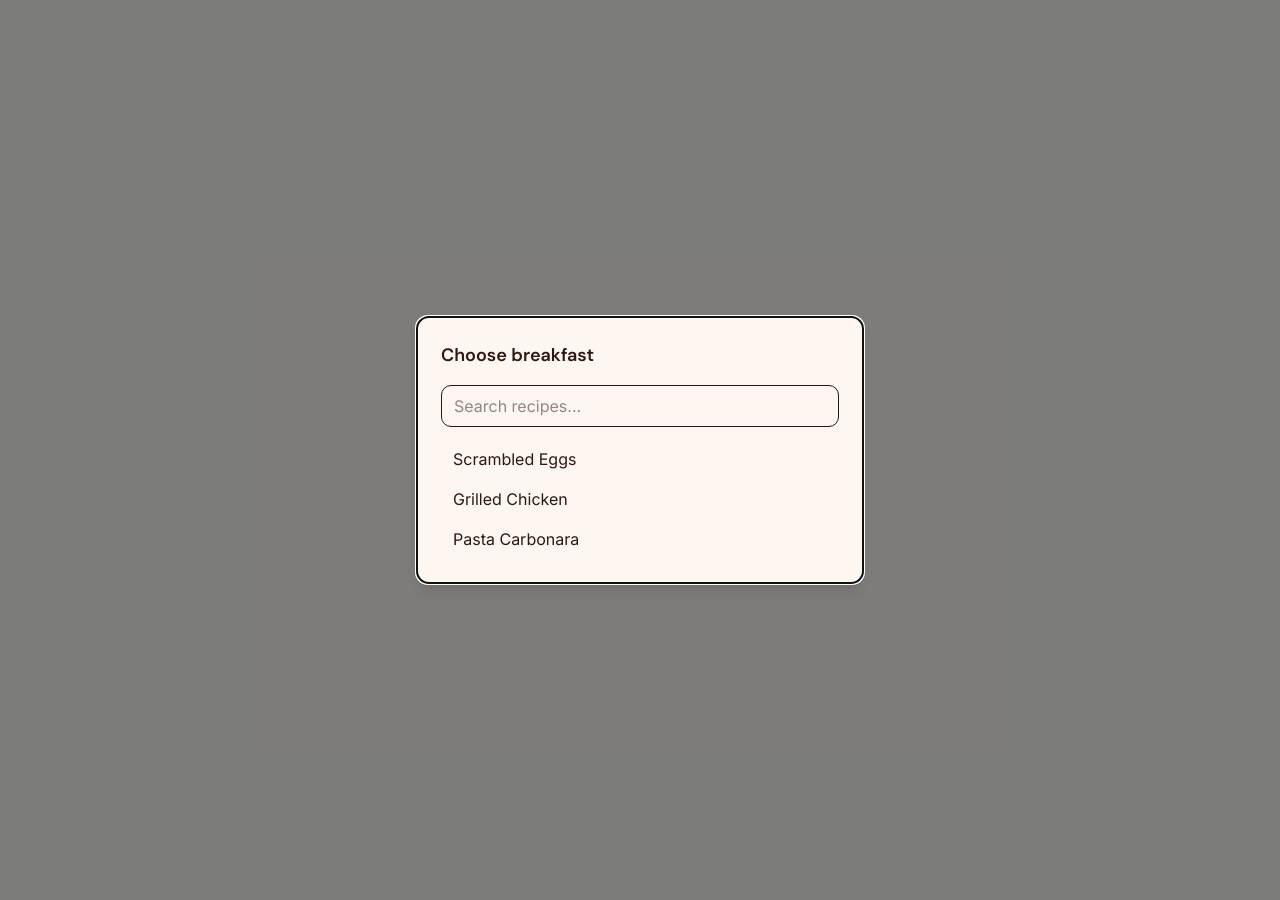
Test case: RecipePickerModal › Error Handling › should display error message on mutation failure
Click the option "Grilled Chicken": (510, 499) [453,489,568,509]
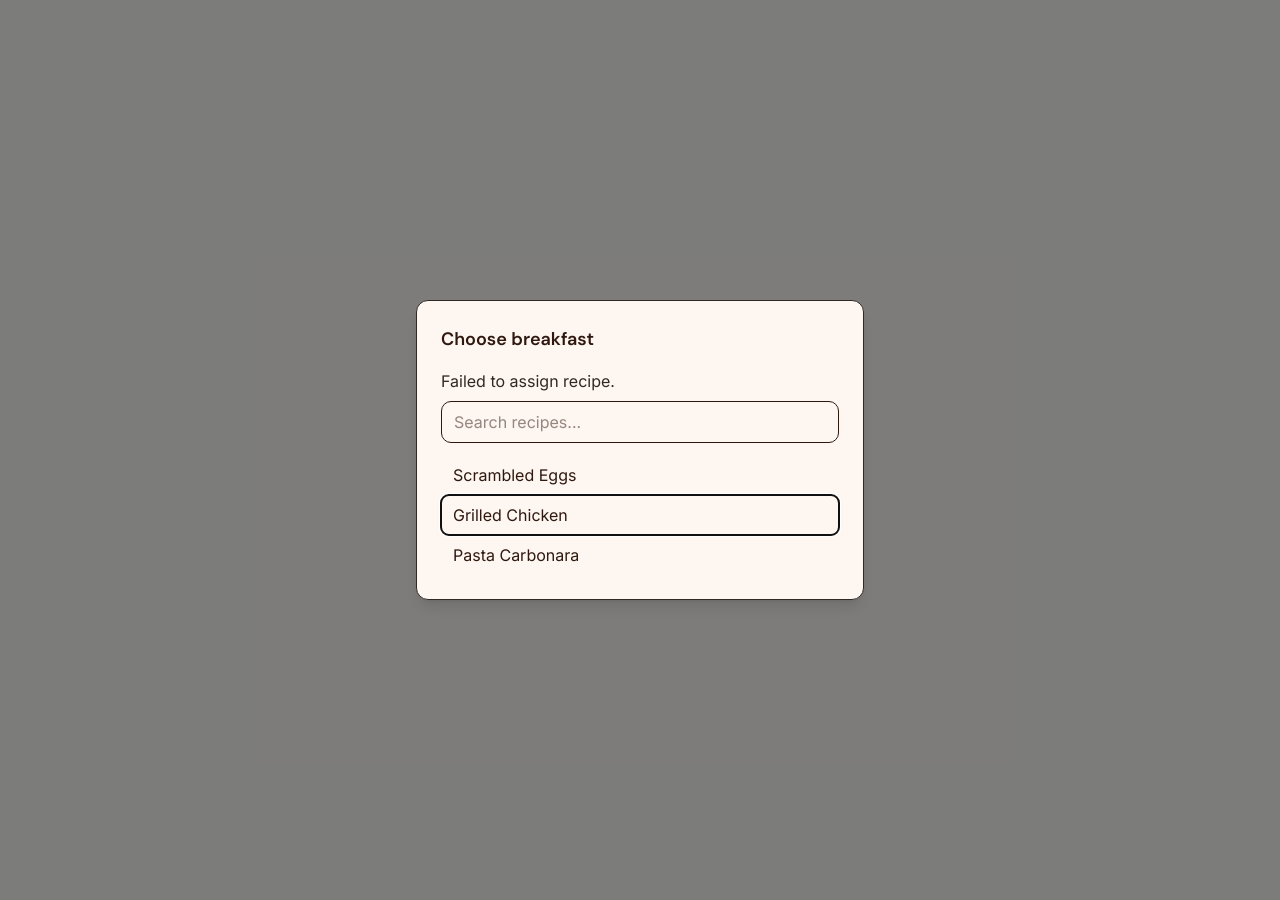
Check: the text "Failed to assign recipe." is shown, box [441,371,615,391]
